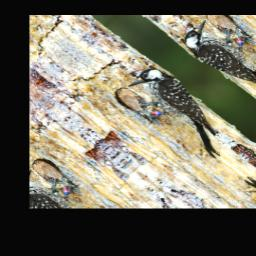Woodpecker: (115, 61, 247, 165)
